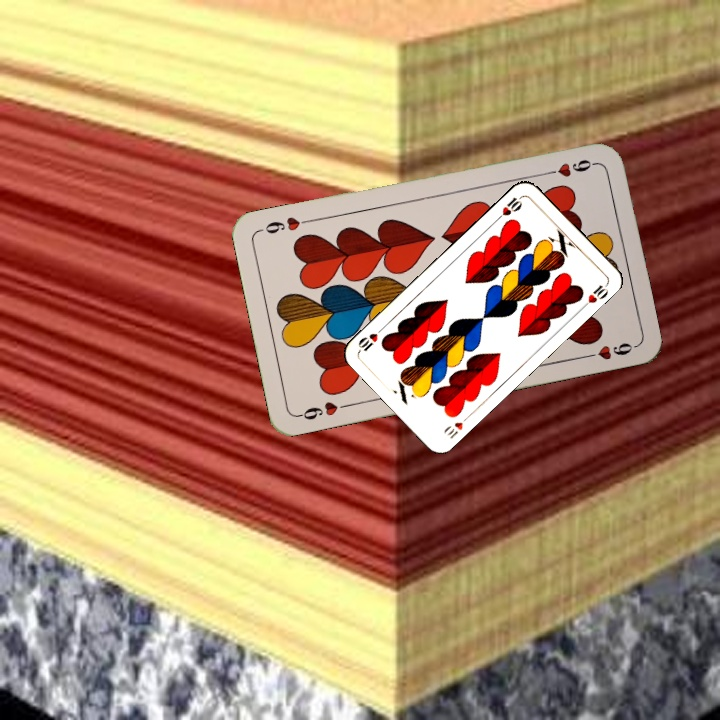H10: (493, 192, 525, 223), (440, 411, 473, 441)
H9: (294, 397, 353, 423), (540, 155, 599, 180)
